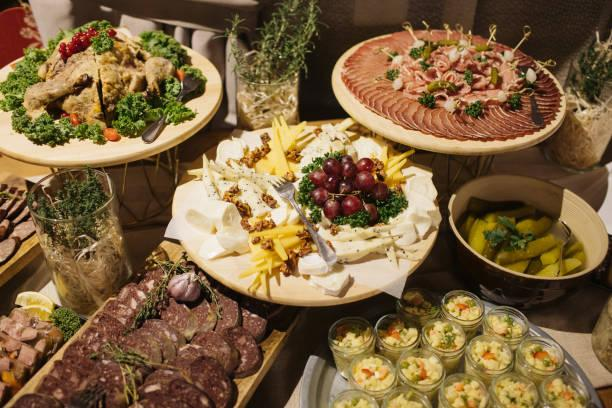Braised Crucian Carp: (171, 121, 427, 306), (299, 291, 608, 404), (1, 26, 222, 168), (332, 25, 569, 154), (446, 172, 606, 307)
